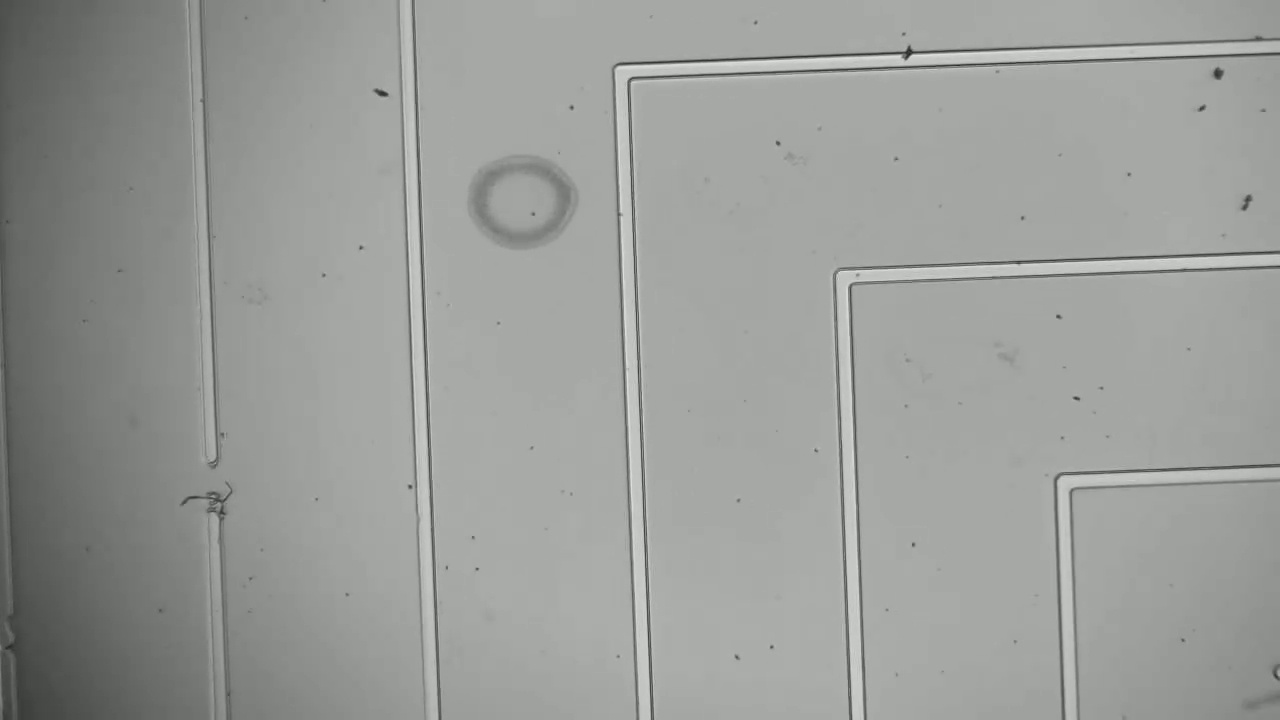edge_bite: (0, 608, 21, 645), (0, 637, 24, 664)
open: (190, 443, 229, 527)
stains_enbedded: (892, 38, 922, 80)
